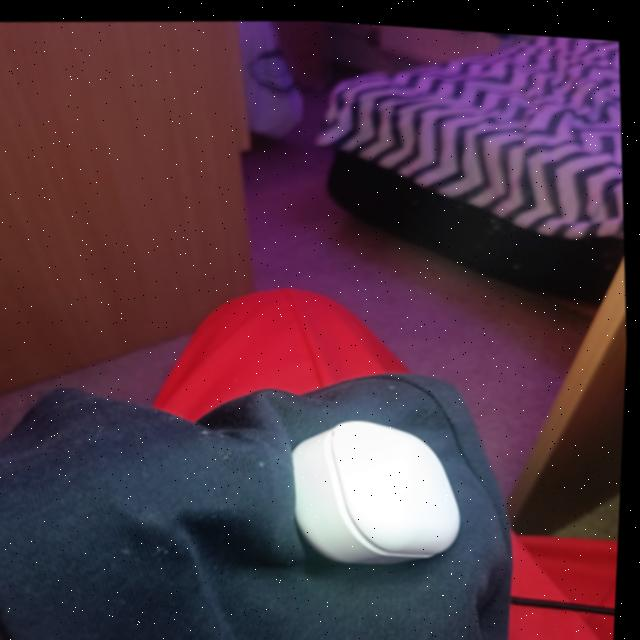headphones: (296, 415, 464, 558)
